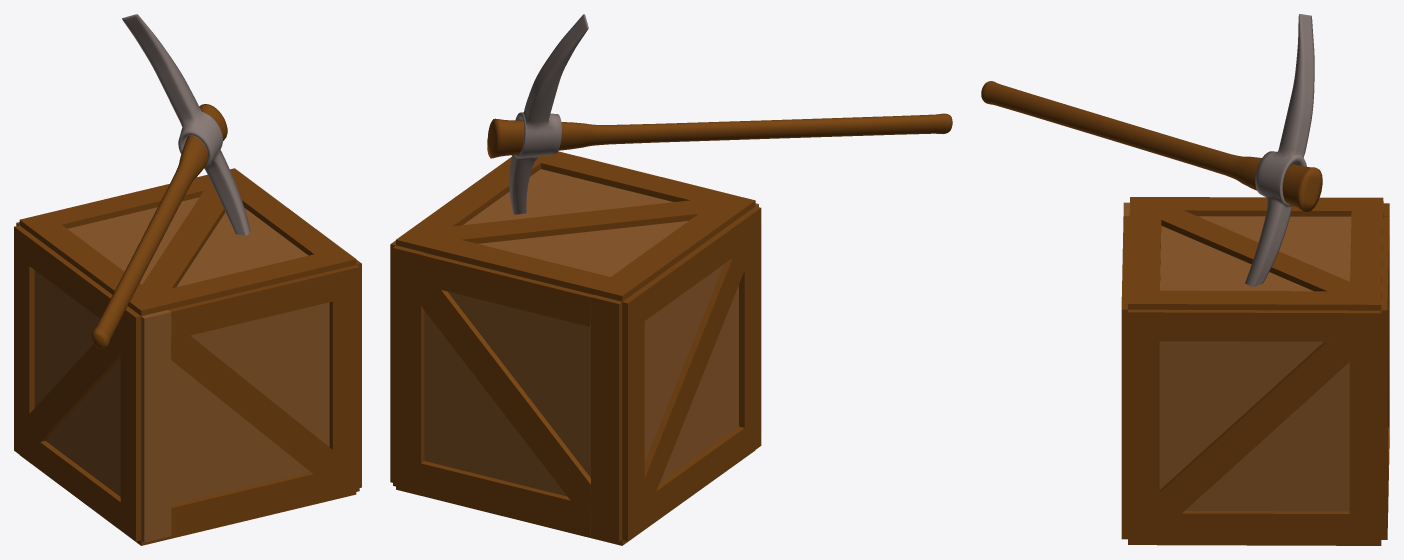
Rendered from pick axe on the crate.fbx.
3 renders of one model, left to right at view 1: azimuth 30°, elevation 25°; view 2: azimuth 150°, elevation 25°; view 3: azimuth 270°, elevation 25°, orthographic. The views are drawn at different scales.
Visible parts, largest first — view 1: Cube.163; view 2: Cube.163; view 3: Cube.163.
Part boxes in pixels (box(x1,y1,x2,y2)): Cube.163: box(14, 14, 361, 545); Cube.163: box(390, 14, 952, 545); Cube.163: box(981, 14, 1389, 545).
Bounding box in the file's own units: 316 × 404 × 323.
